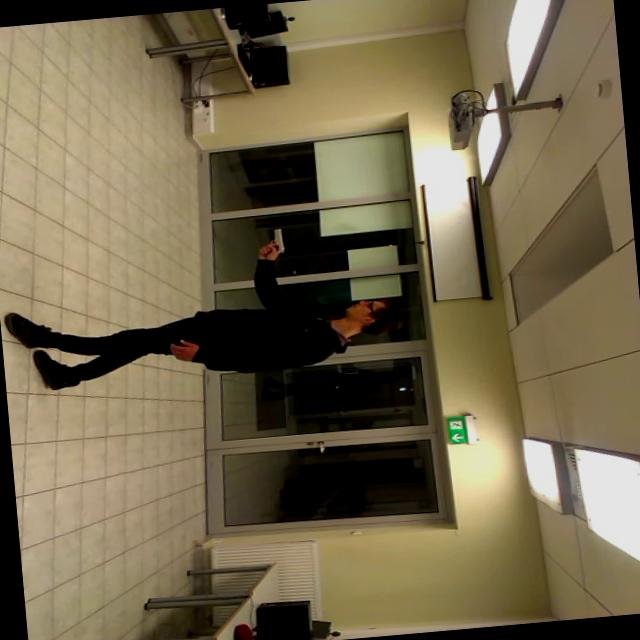handgun: (243, 222, 294, 264)
